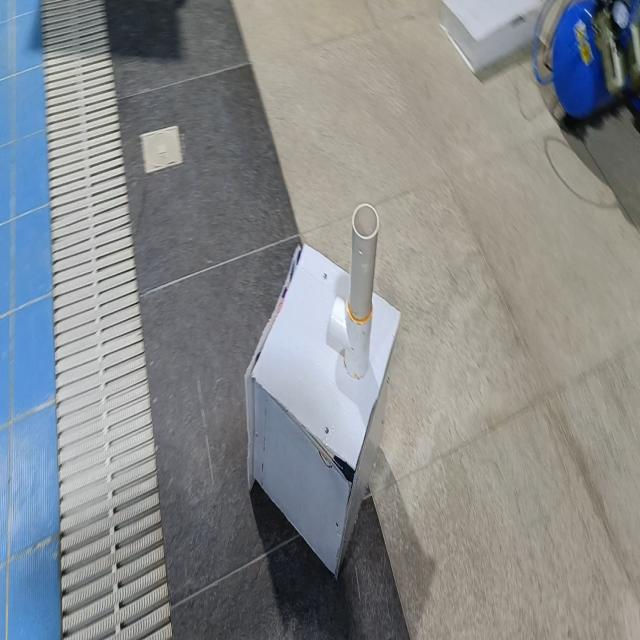Cube: (244, 236, 402, 579)
